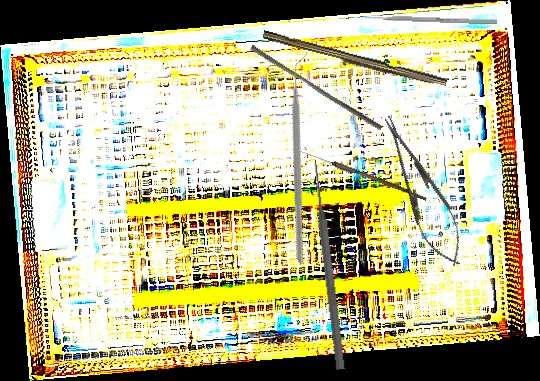Chopper: (205, 52, 402, 265)
Needle Holder: (369, 108, 476, 274)
Pusher: (247, 44, 386, 131), (309, 162, 348, 371), (354, 14, 498, 25)
Scalpel Handle: (261, 30, 448, 90)
Surgical Spoon: (300, 149, 428, 201)
